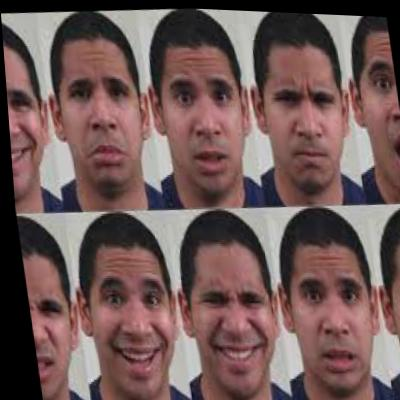angry: (246, 9, 360, 193)
happy: (65, 216, 183, 398), (171, 213, 276, 398)
sad: (40, 13, 157, 203)
